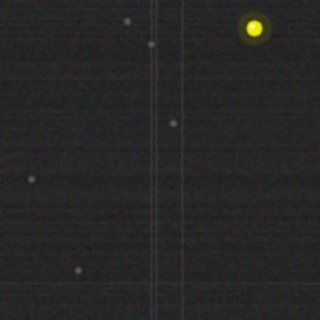yellow_warning: (244, 18, 264, 38)
